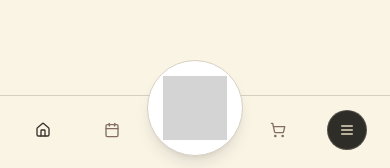
Scenario: Header mobile nav › shows auth options in hamburger menu when signed out
This screenshot has width=390, height=168.
Click the button named "open menu" at (347, 130), box [327,110,367,150]
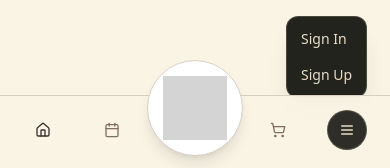
Expected: the menu item "Sign In" is shown, [301,29,347,48]
Expected: the menu item "Sign Up" is shown, [301,65,352,84]
